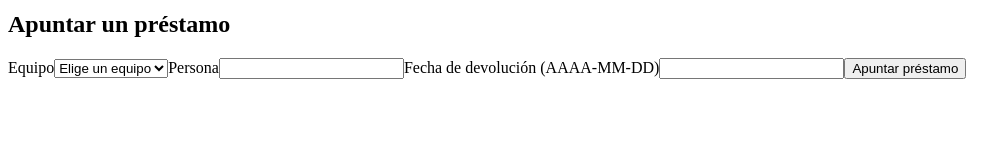
Test case: pantalla Apuntar un préstamo › apunta el préstamo con el token de la sesión y enseña que consta
Select "Portátil 07" in the dropdown labelled "Equipo" at x=111, y=68, box [54, 59, 168, 78]
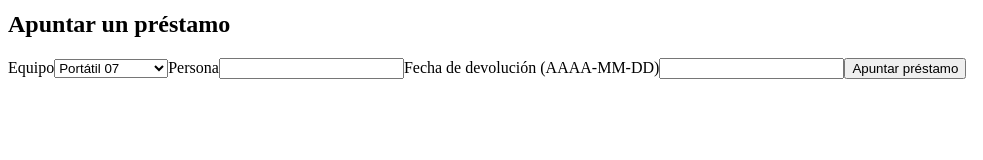
Type "Ana Pérez" into the field labelled "Persona" at x=311, y=68, box [219, 58, 404, 79]
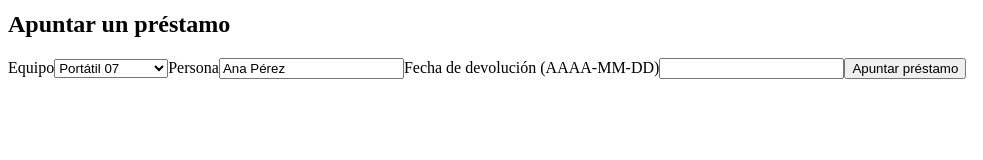
Type "2026-12-15" into the field labelled "Fecha de devolución (AAAA-MM-DD)" at x=752, y=68, box [659, 58, 844, 79]
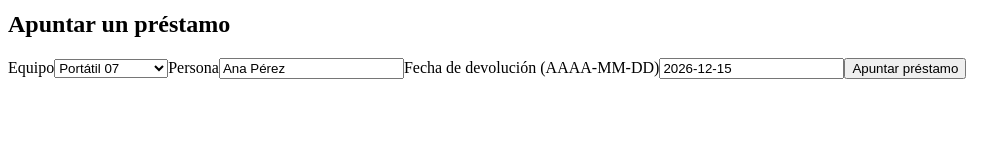
Click the button "Apuntar préstamo" at x=905, y=68, box [844, 58, 966, 79]
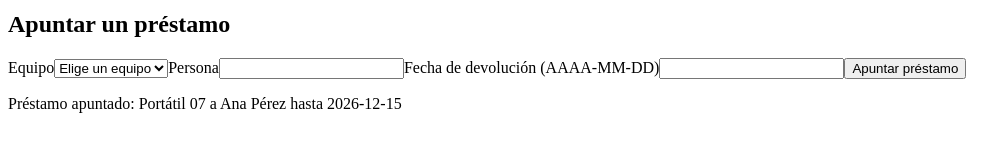
Check: the text "Préstamo apuntado: Portátil 07 a Ana Pérez hasta 2026-12-15" is shown, box [8, 95, 402, 112]
